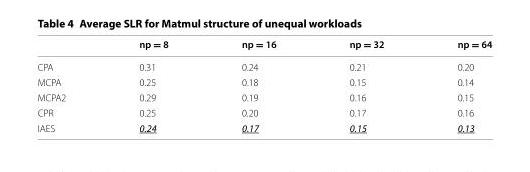table: (36, 37, 491, 133)
table column: (204, 37, 312, 133), (312, 37, 420, 133), (101, 37, 204, 133), (420, 37, 491, 133), (36, 37, 101, 133)
table column header: (36, 37, 491, 58)
table row: (36, 37, 491, 58), (36, 58, 491, 74), (36, 74, 491, 89), (36, 89, 491, 104), (36, 104, 491, 119), (36, 119, 491, 133)
